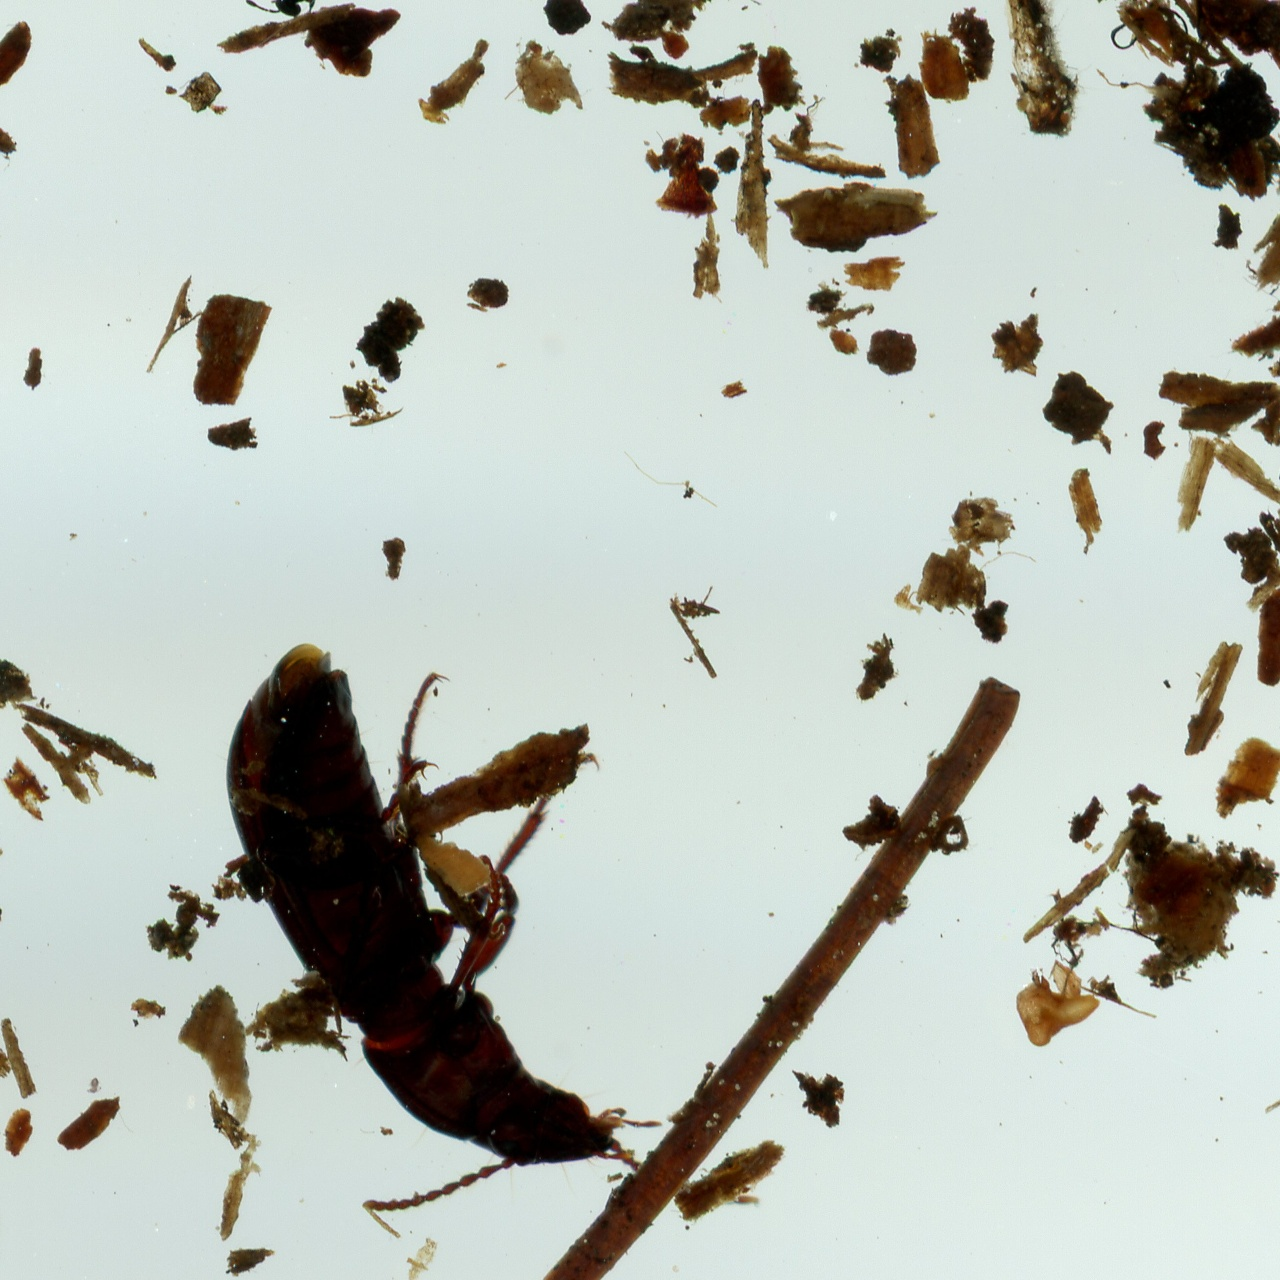arthropod: (218, 636, 671, 1220), (241, 0, 343, 23)
